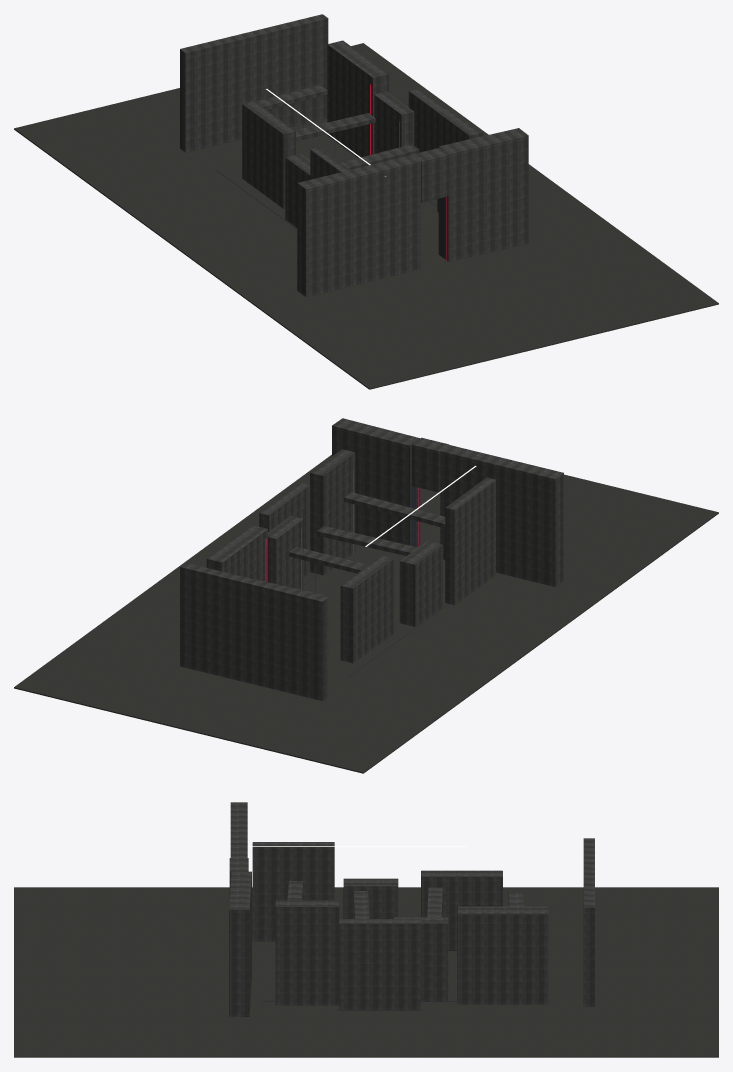
The model's file is atrium.glb.
3 renders of one model, top to bottom at view 1: azimuth 30°, elevation 25°; view 2: azimuth 150°, elevation 25°; view 3: azimuth 270°, elevation 25°, orthographic.
Visible parts, largest first — view 1: Unravel architectural shell; view 2: Unravel architectural shell; view 3: Unravel architectural shell.
Boxes of the visible parts, bbox=[...] form: Unravel architectural shell: bbox=[14, 14, 718, 389]; Unravel architectural shell: bbox=[14, 418, 718, 773]; Unravel architectural shell: bbox=[14, 802, 718, 1057].
Bounding box in the file's own units: 88 × 26.36 × 155.
6 materials, 2 textured.
